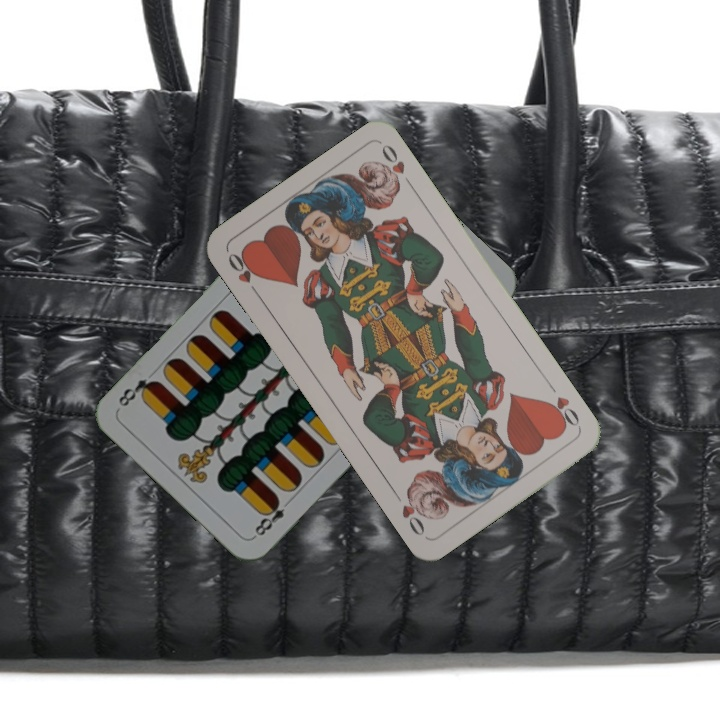E8: (249, 494, 295, 540)
HO: (542, 379, 583, 432), (223, 247, 263, 300)
